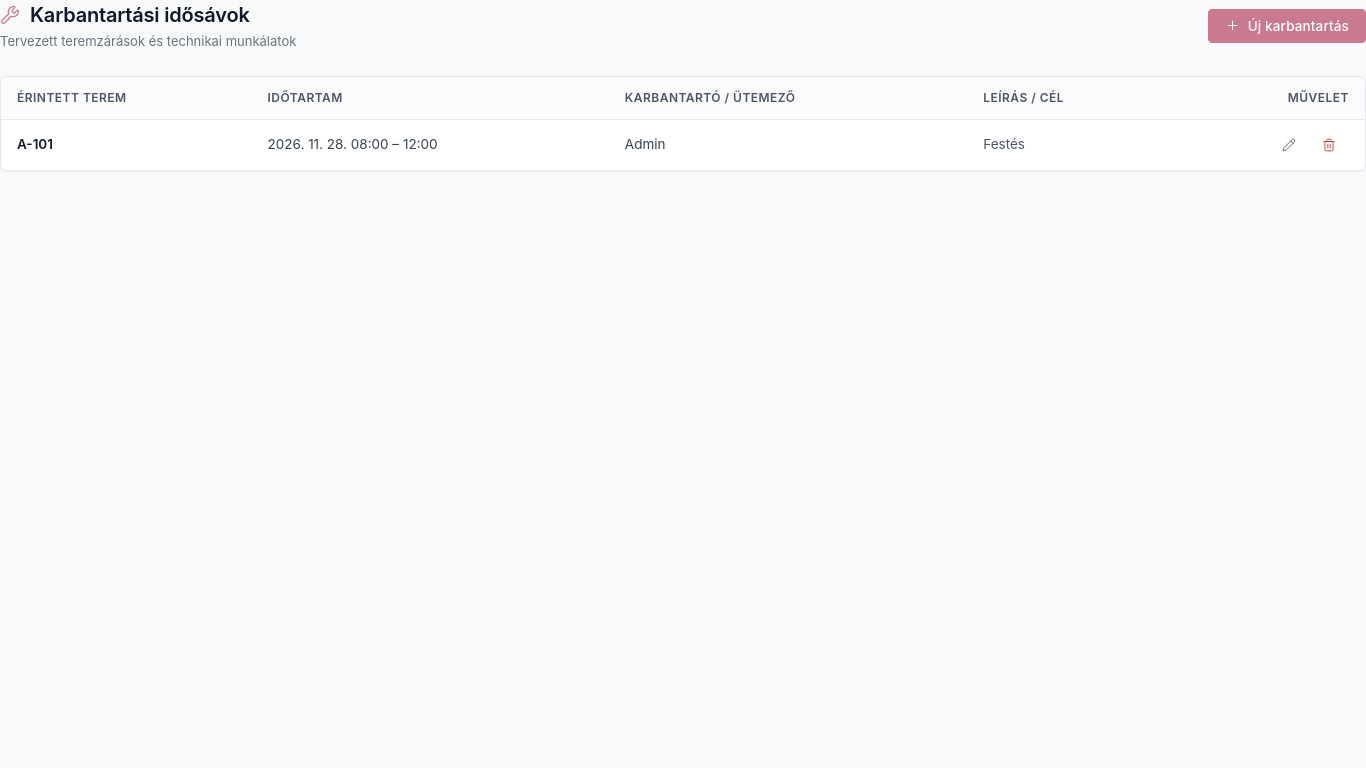
Test case: MaintenancePage › edits an upcoming maintenance
The image size is (1366, 768).
Click the button named "A-101 karbantartás szerkesztése" at point(1289, 144), box x1=1269 y1=132 x2=1309 y2=158
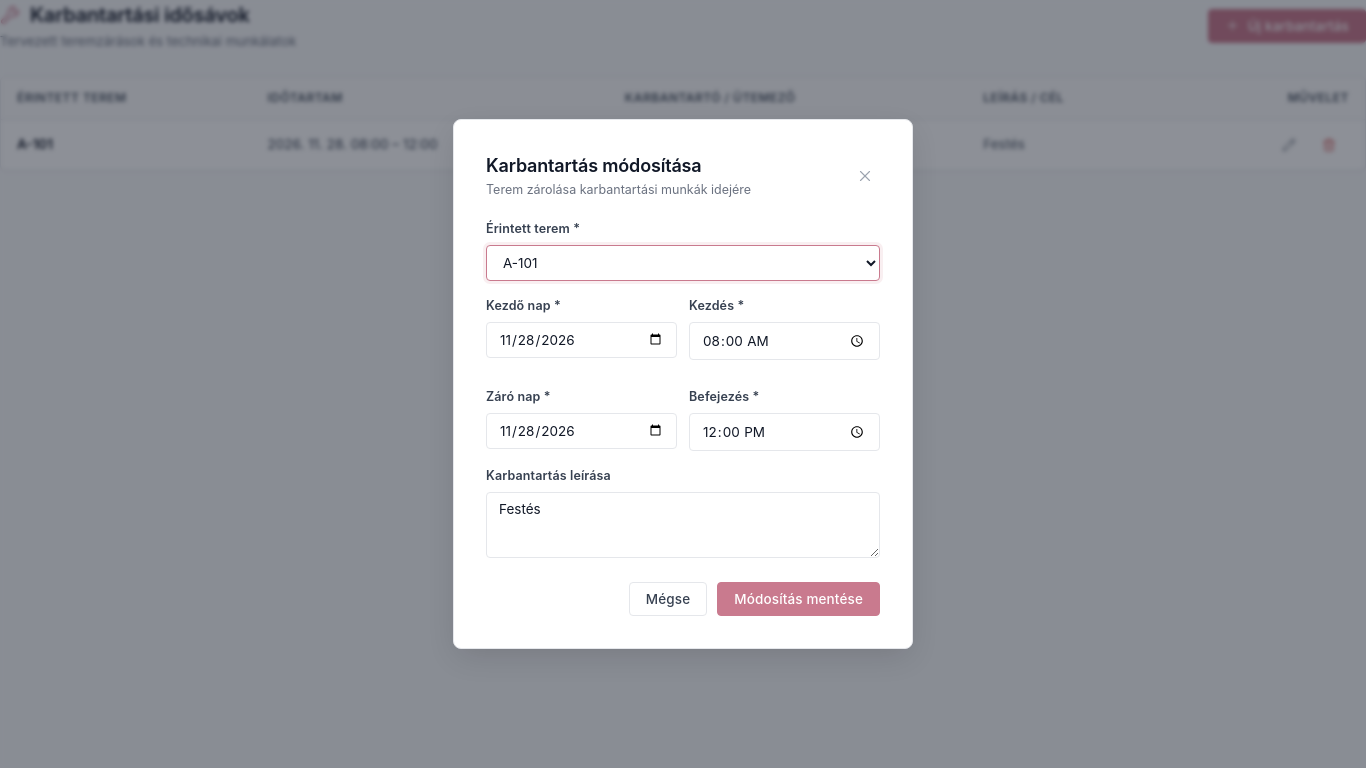
Check: the heading "Karbantartás módosítása" is shown, box x1=486 y1=156 x2=702 y2=176
Replace the text in the time field labelled "Befejezés *" with "14:00" at point(784, 432), box x1=689 y1=413 x2=880 y2=451
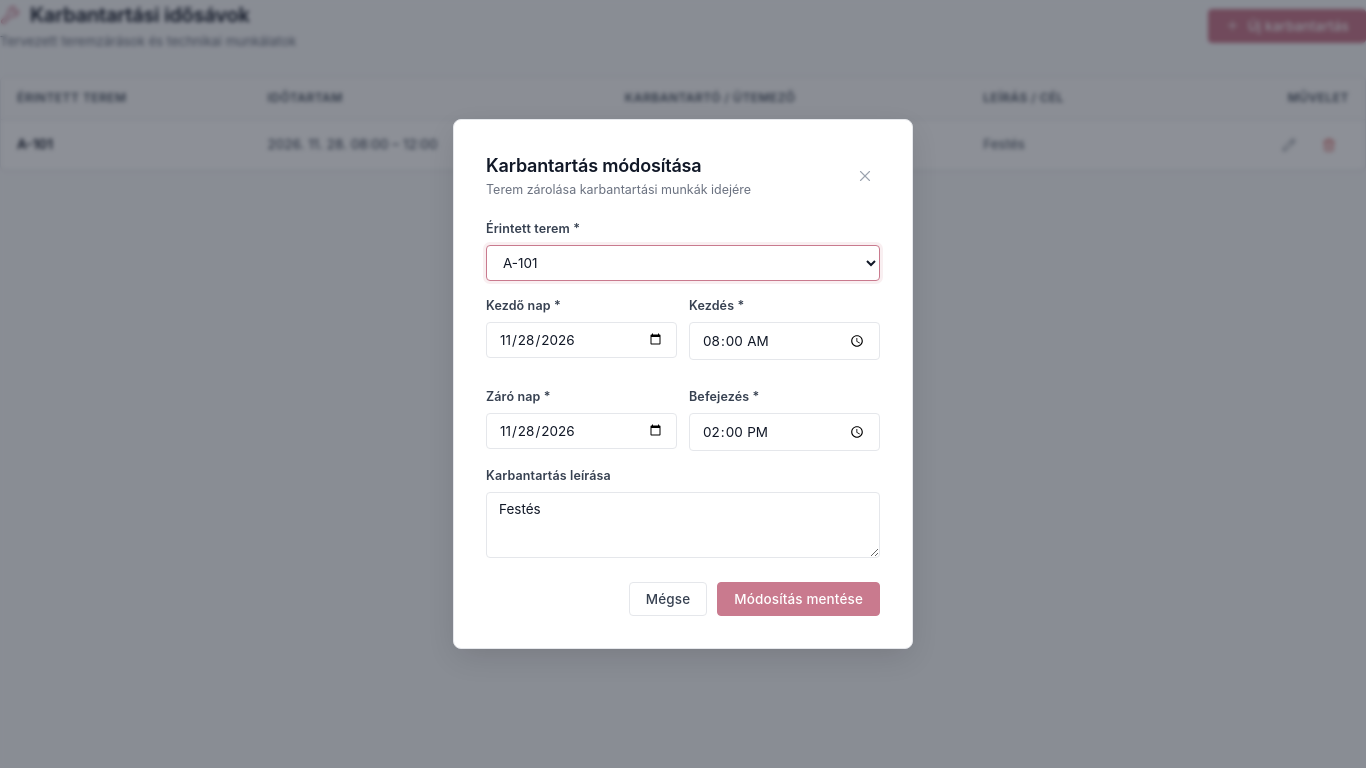
Click the button "Módosítás mentése" at point(799, 598), box x1=717 y1=582 x2=880 y2=616
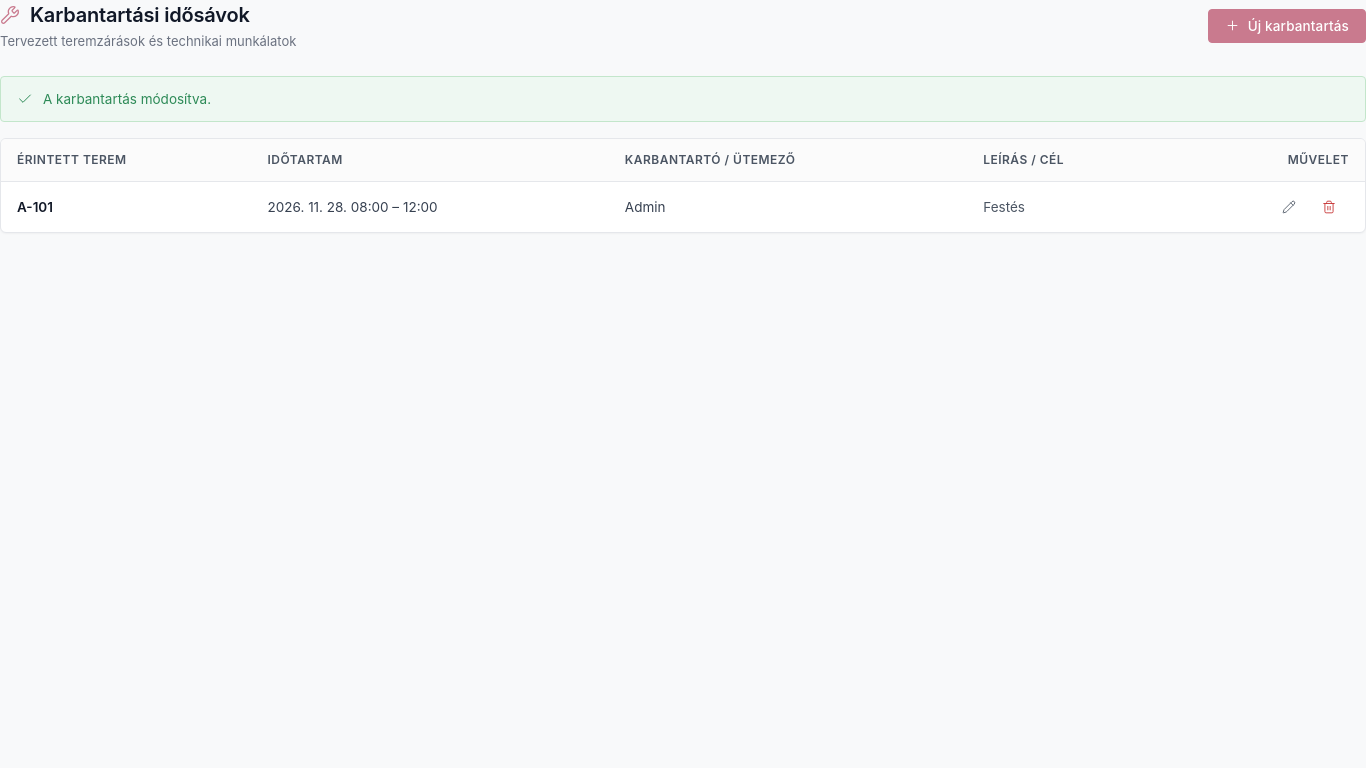
Check: the text "A karbantartás módosítva." is shown, box x1=43 y1=88 x2=211 y2=109
